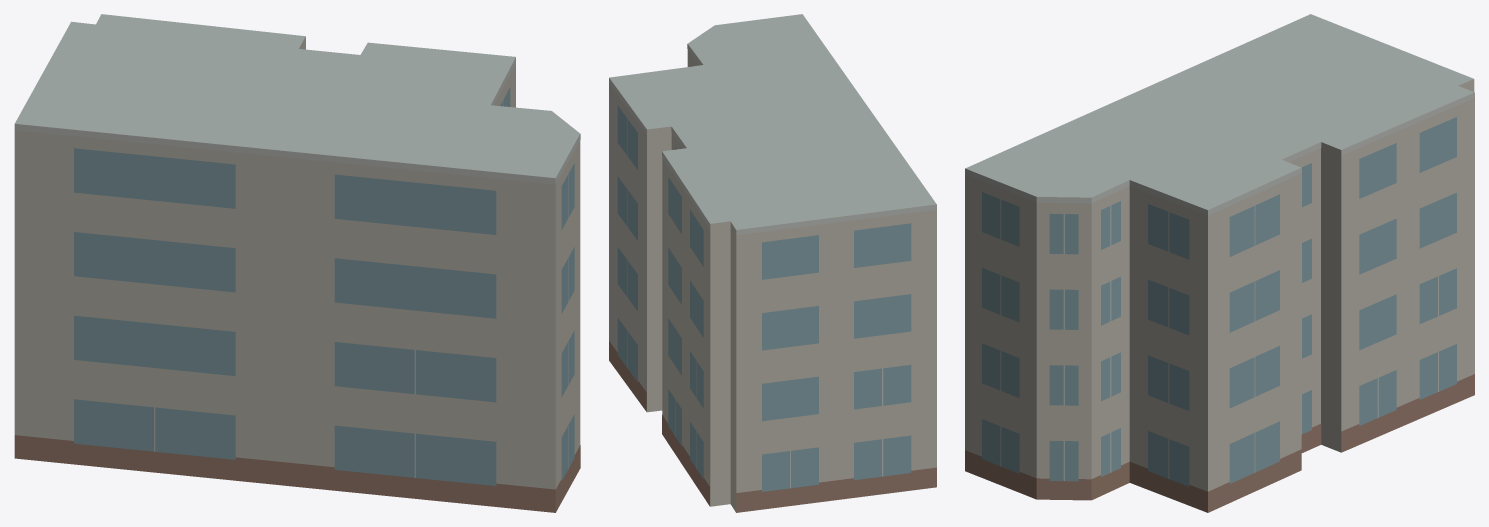
File: survey-upis-32739770.glb
3 views of the same model, side by side, from view 1: azimuth 30°, elevation 25°; view 2: azimuth 150°, elevation 25°; view 3: azimuth 270°, elevation 25° (orthographic). The views are drawn at different scales.
Parts seen in each view (by area): view 1: survey-upis-32739770.tmp; view 2: survey-upis-32739770.tmp; view 3: survey-upis-32739770.tmp.
Boxes of the visible parts, left/top/right/bottom form: survey-upis-32739770.tmp: left=14, top=14, right=580, bottom=512; survey-upis-32739770.tmp: left=609, top=14, right=936, bottom=512; survey-upis-32739770.tmp: left=965, top=14, right=1474, bottom=512.
Bounding box in the file's own units: 17.8 × 12.8 × 19.54.
